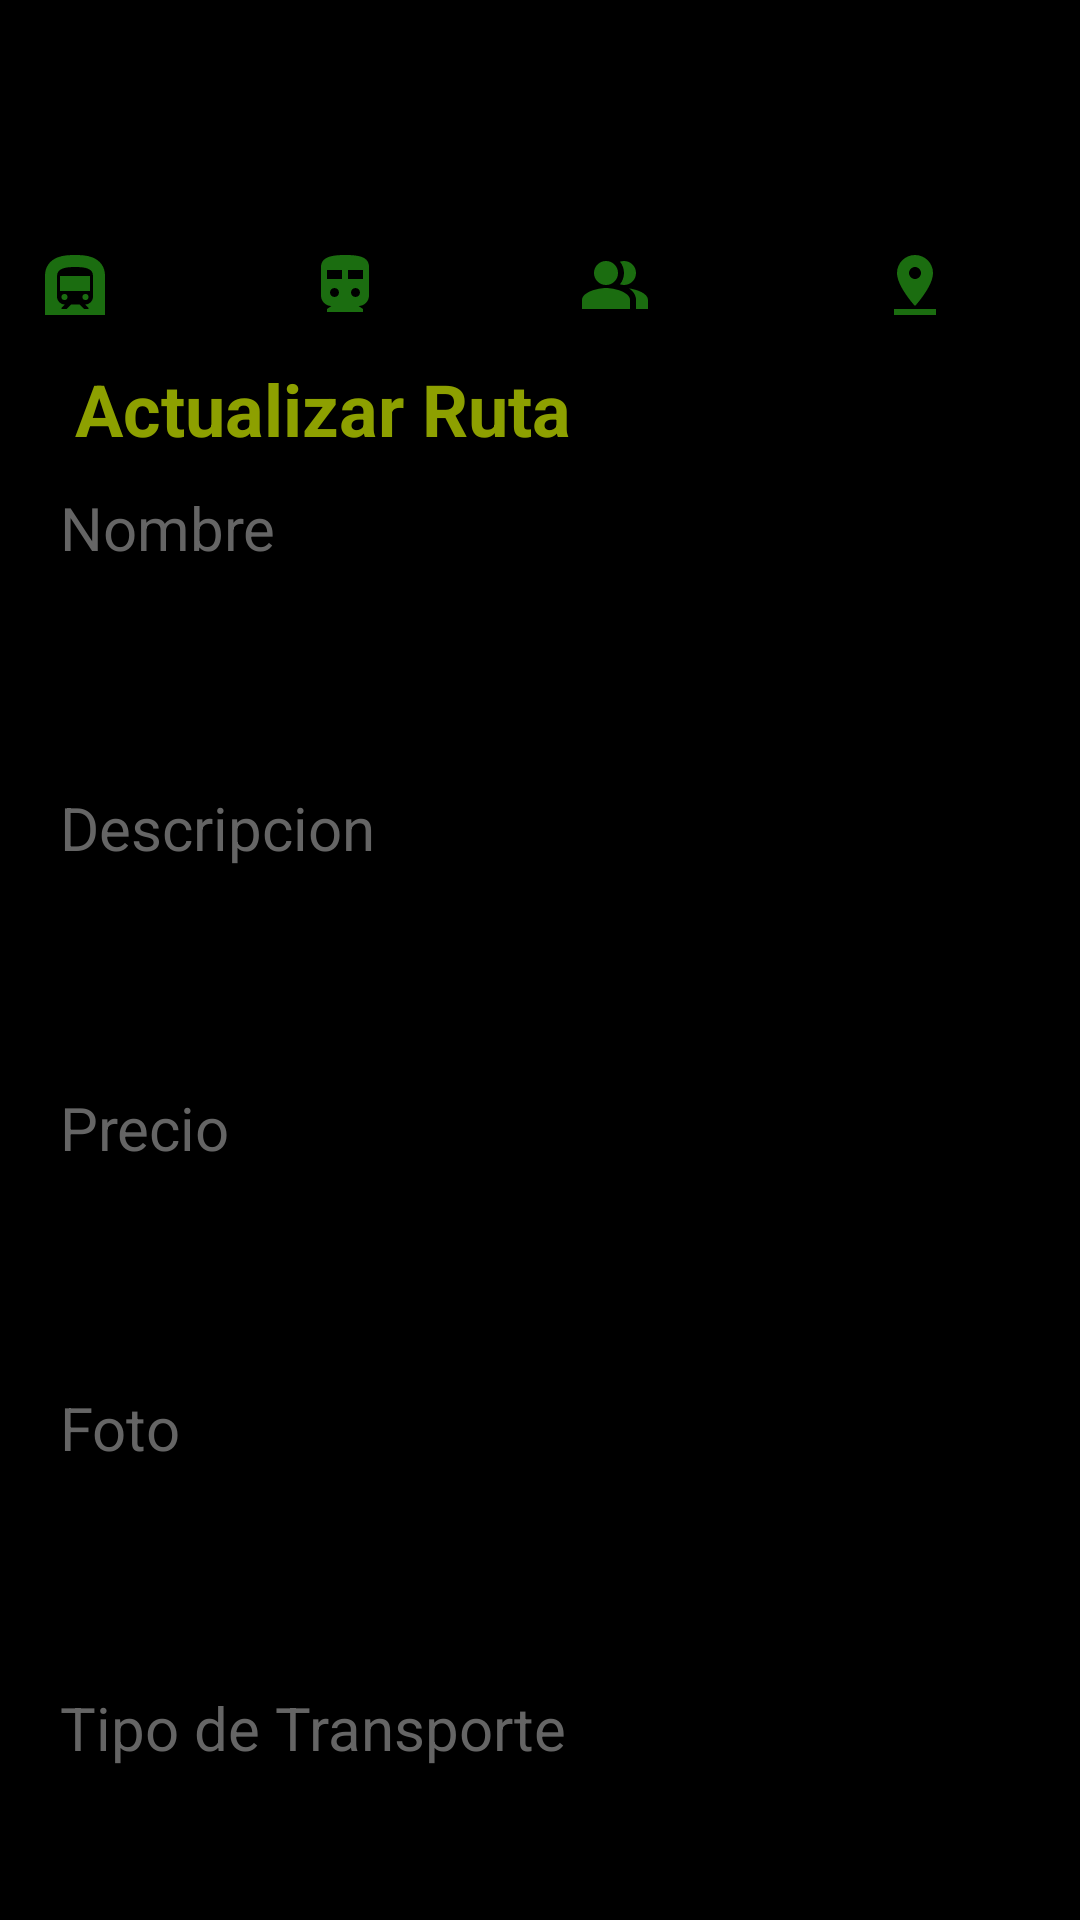

Icon bounding boxes for this 1080 × 1920 phone screenshot, format (x1, y1, x2, y2):
puntoicono: (894, 255, 936, 315)
usericono: (582, 261, 648, 309)
